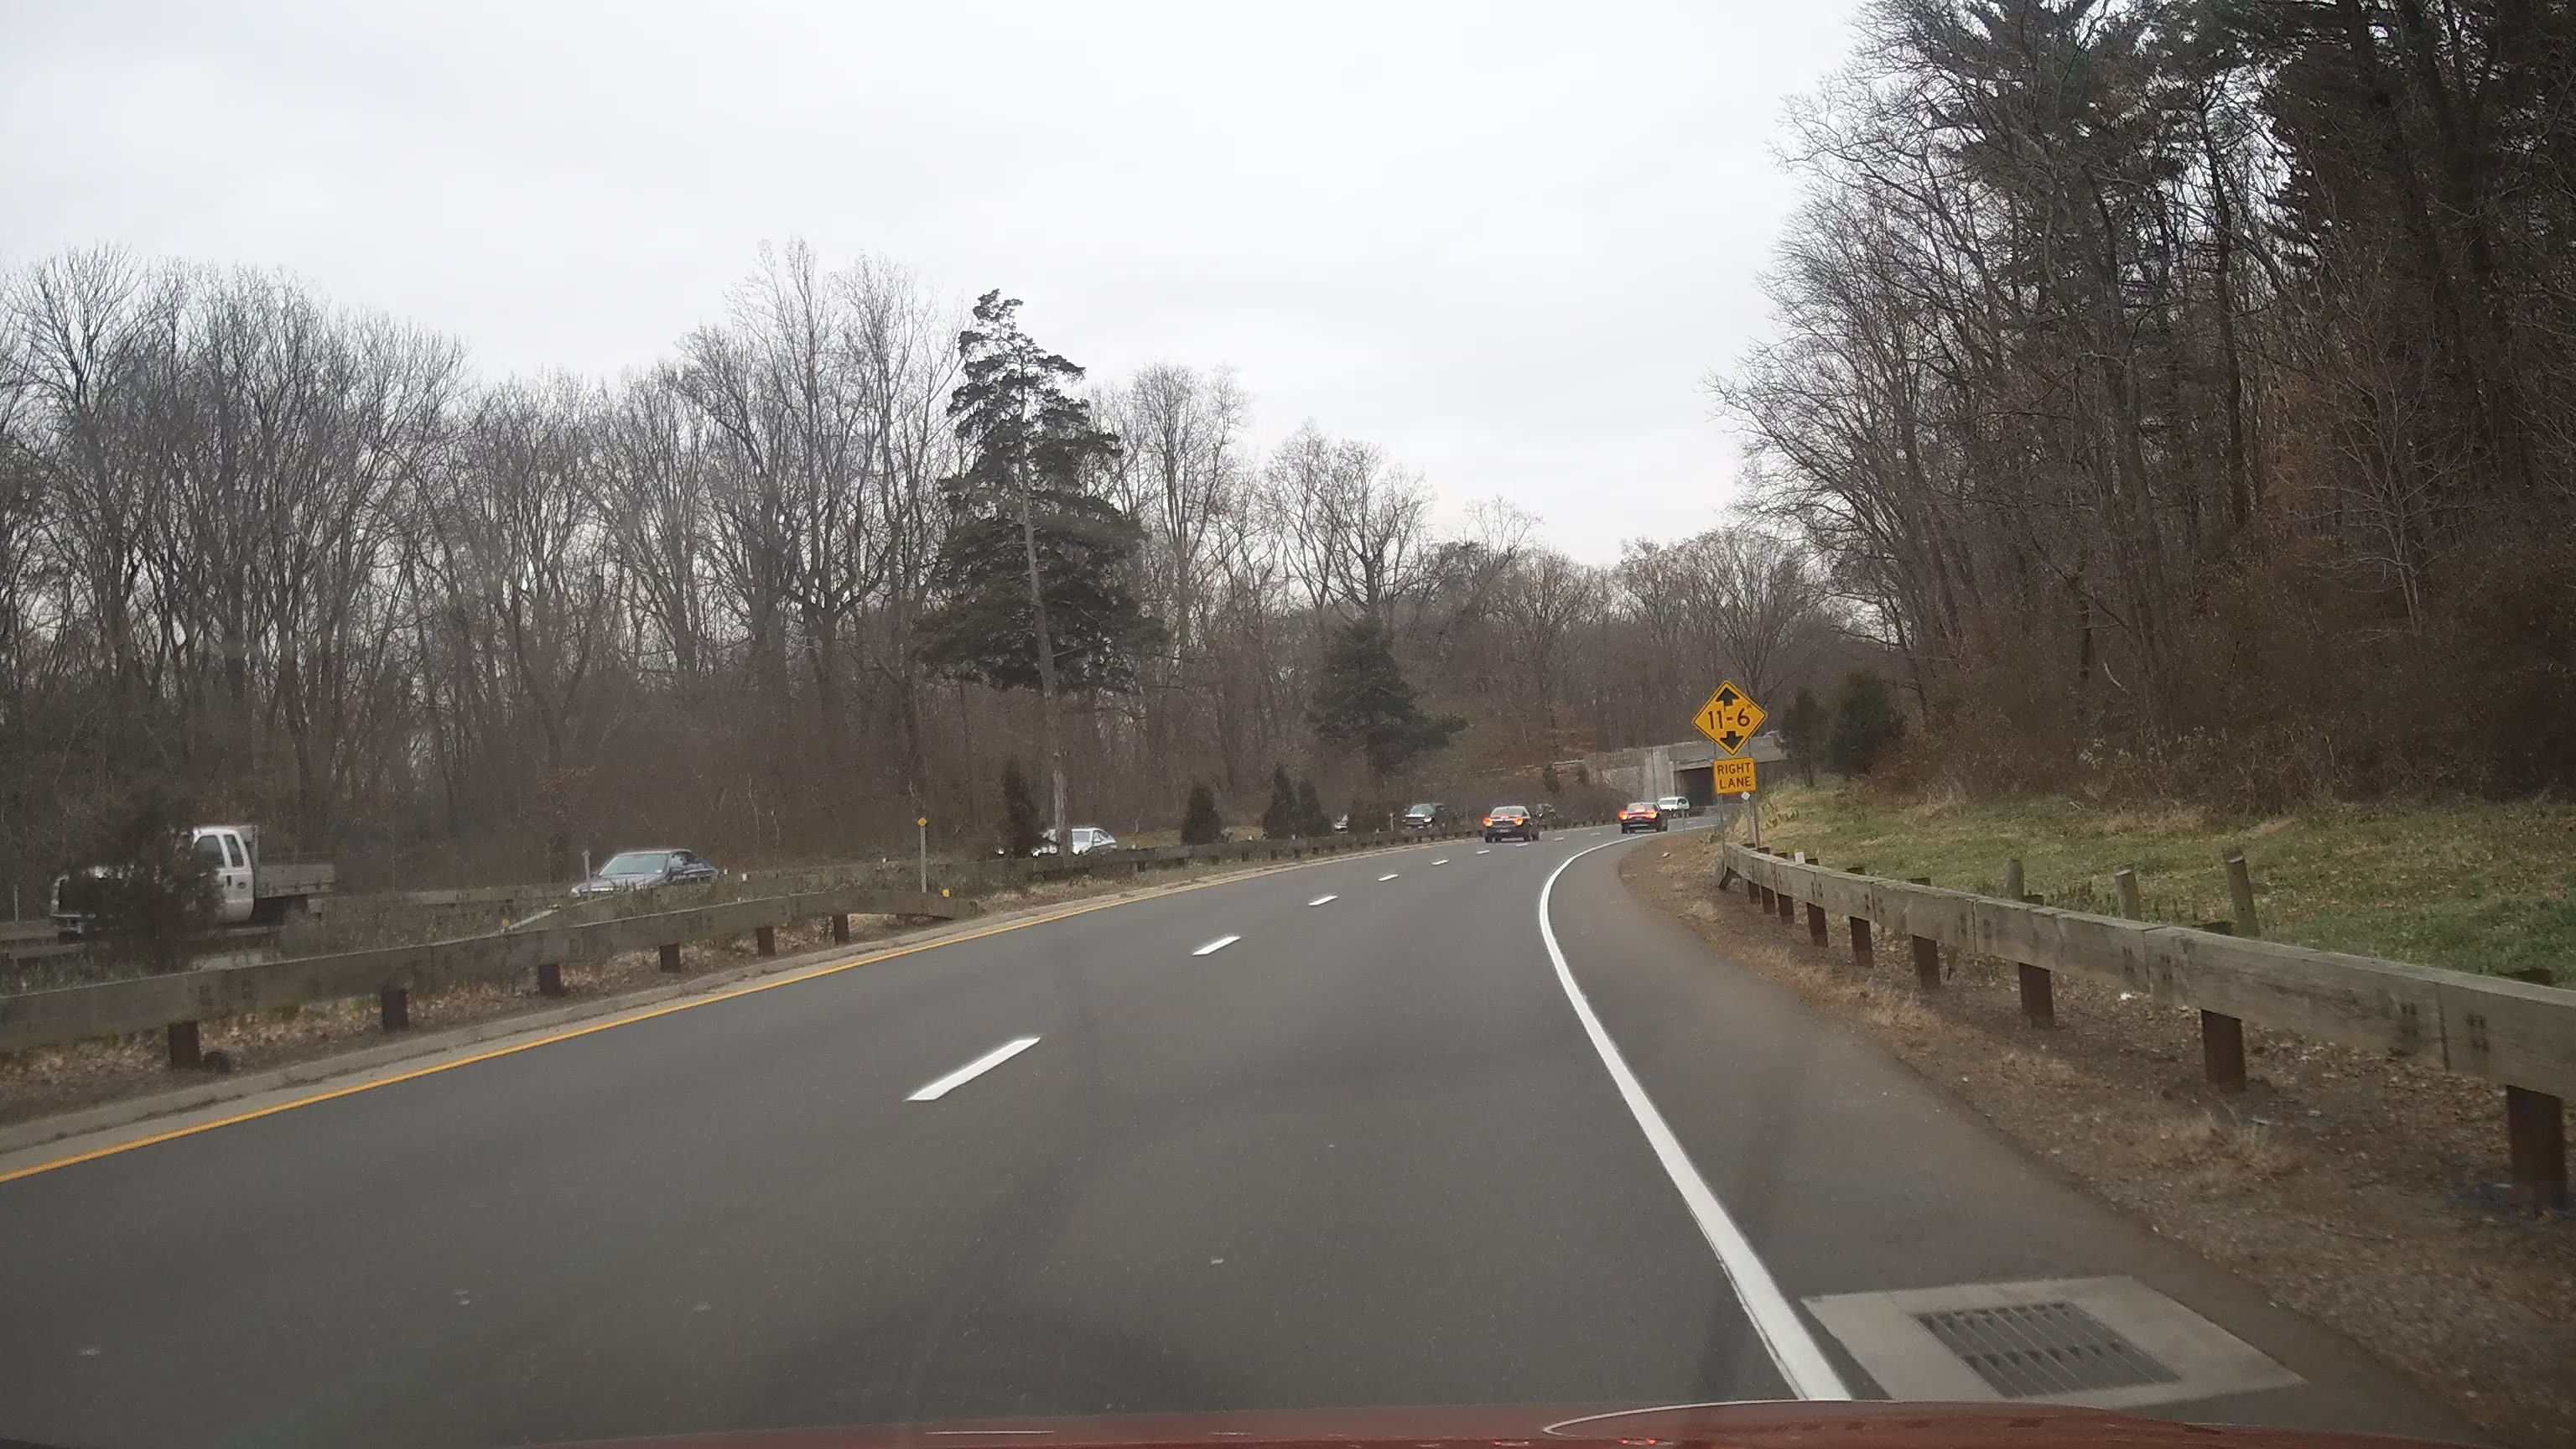low-clearance-sign: (1691, 679, 1769, 757)
